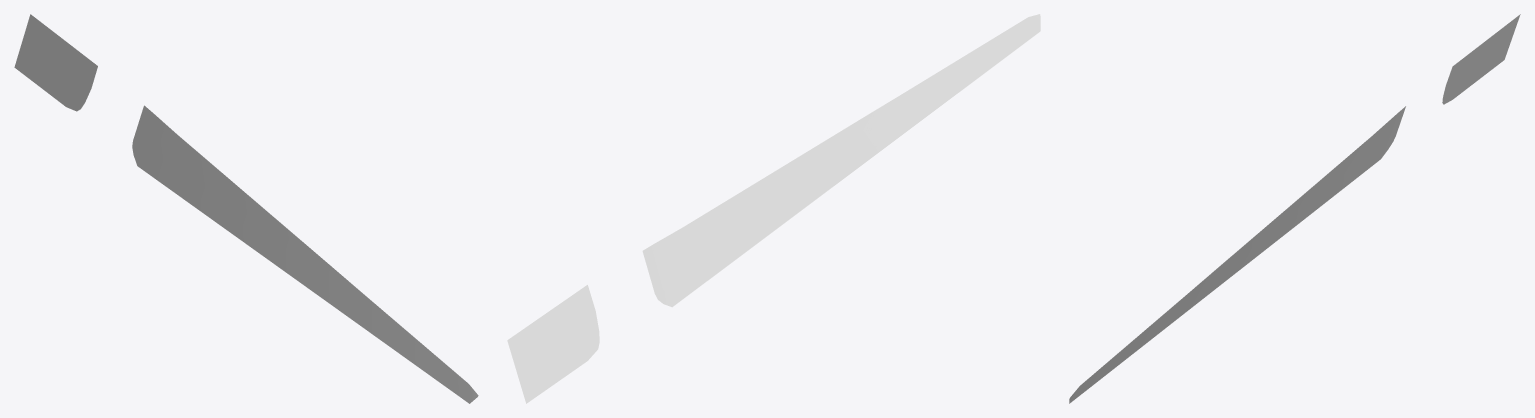
The picture shows the model from 3 angles, left to right: view 1: azimuth 30°, elevation 25°; view 2: azimuth 150°, elevation 25°; view 3: azimuth 330°, elevation 25°; orthographic projection. The views are drawn at different scales.
Size of the model in its own units: 0.0191 by 0.0729 by 0.9276.
Materials: 1 (1 with a texture image).
